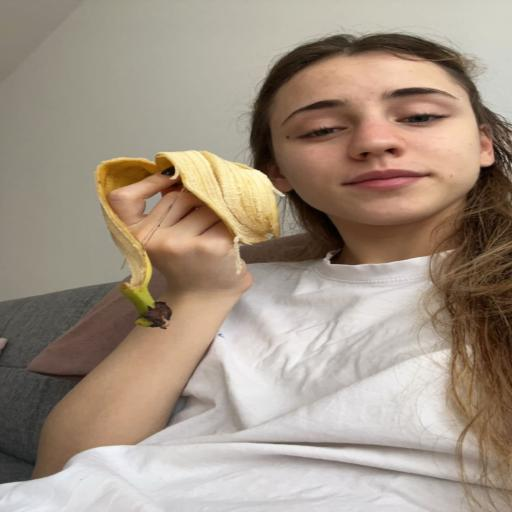masa: (260, 66, 490, 216)
